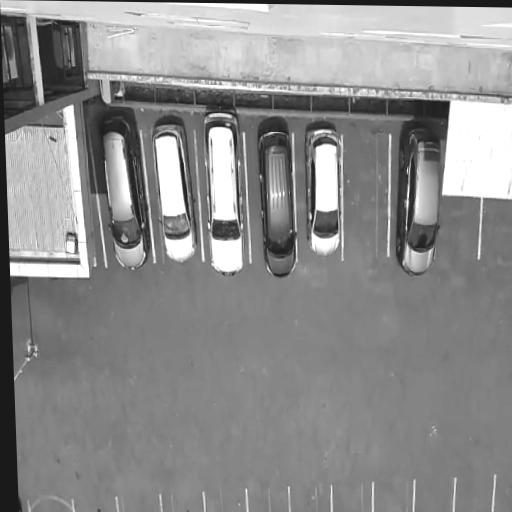Car: (391, 126, 451, 275), (203, 103, 255, 273), (99, 114, 152, 273), (150, 118, 203, 261), (260, 125, 305, 280), (303, 121, 347, 259)
Space Available: (337, 132, 396, 264), (439, 196, 480, 267), (479, 200, 512, 264), (453, 476, 499, 512), (372, 477, 415, 512), (412, 477, 455, 512), (288, 482, 333, 512), (330, 482, 375, 512), (249, 482, 291, 512), (204, 486, 248, 512), (163, 488, 205, 512), (116, 491, 162, 512), (28, 493, 73, 512), (74, 496, 119, 511), (494, 476, 512, 512)
